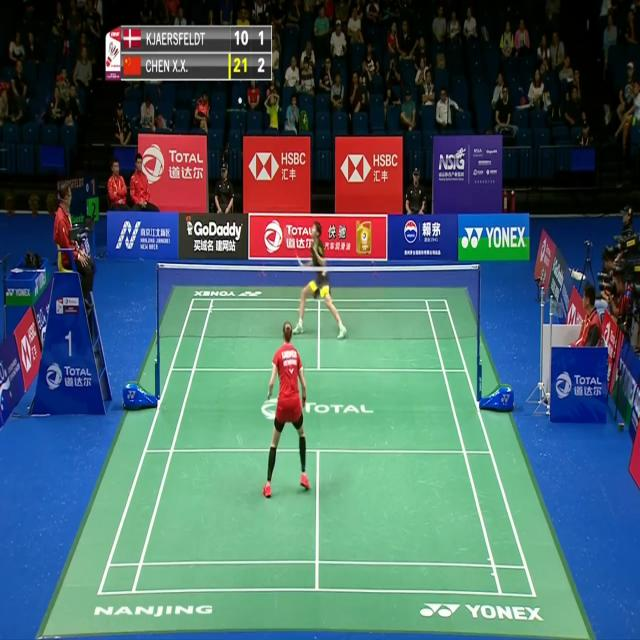Player1: (259, 321, 315, 509)
Player2: (288, 210, 350, 345)
